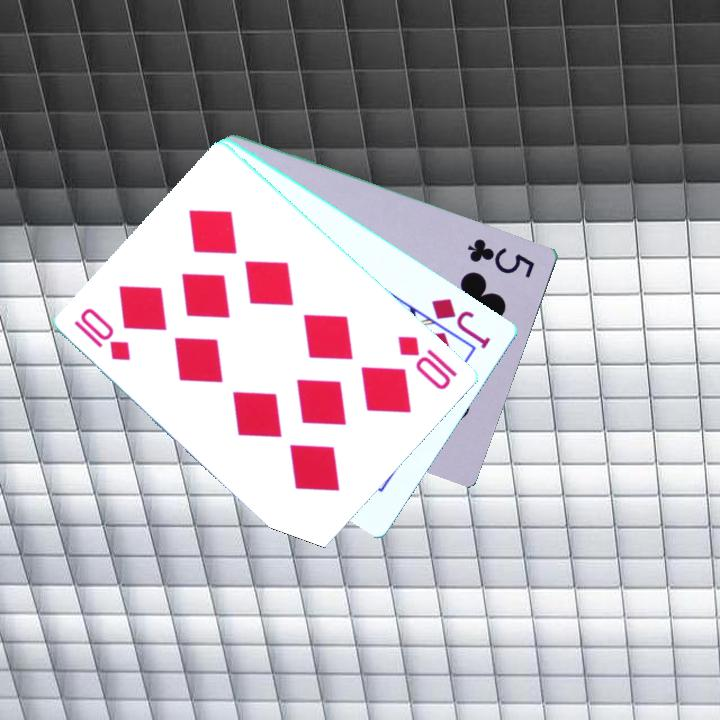10d: (394, 331, 461, 393), (71, 304, 134, 364)
5c: (464, 234, 538, 281)
Jd: (428, 294, 494, 352)
